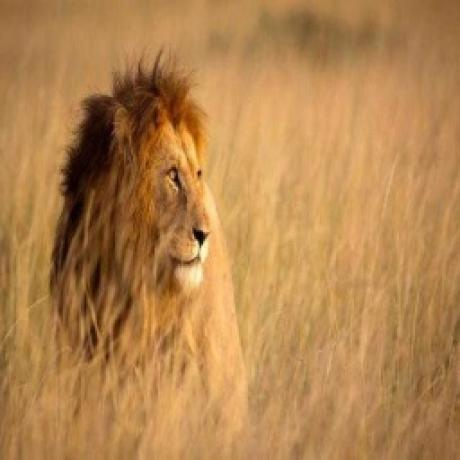Lion: (49, 52, 249, 366)
